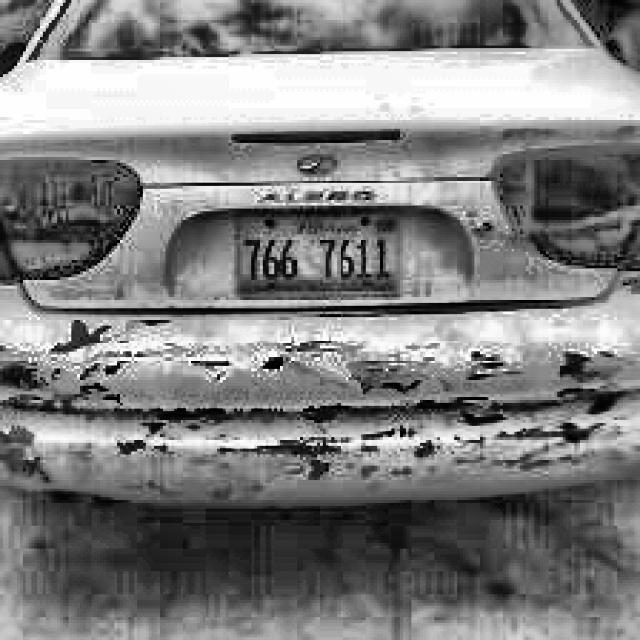bumper_scratch: (10, 320, 640, 489)
